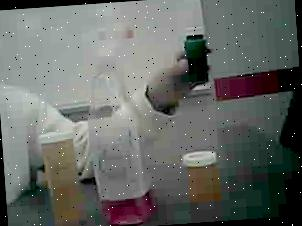Bottle A: (33, 126, 89, 226)
Bottle B: (180, 144, 230, 212)
Bottle C: (179, 22, 216, 90)
hazard: (80, 20, 153, 226)
